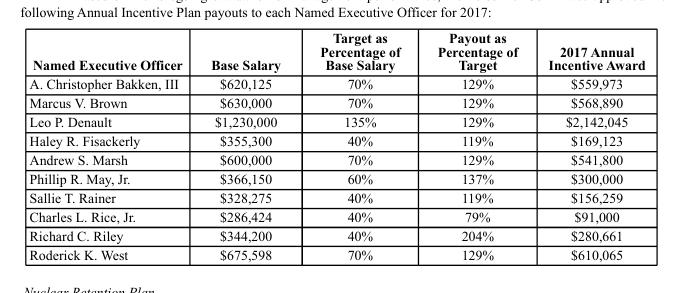table: (28, 29, 644, 261)
table column: (28, 29, 195, 261), (299, 29, 418, 261), (418, 29, 532, 261), (532, 29, 644, 261), (195, 29, 299, 261)
table column header: (28, 29, 644, 74)
table row: (28, 29, 644, 74), (28, 74, 644, 93), (28, 93, 644, 112), (28, 112, 644, 131), (28, 149, 644, 168), (28, 168, 644, 187), (28, 187, 644, 206), (28, 206, 644, 225), (28, 225, 644, 244), (28, 131, 644, 149), (28, 244, 644, 261)
